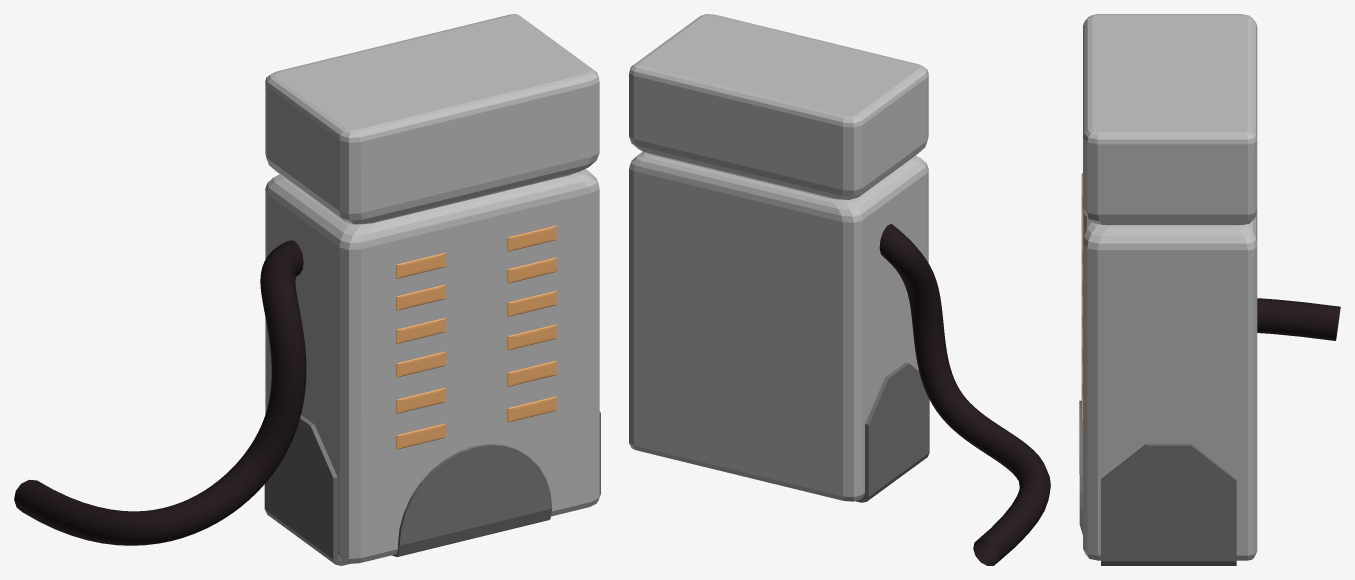
Rendered from OxygenBag.fbx.
3 renders of one model, left to right at view 1: azimuth 30°, elevation 25°; view 2: azimuth 150°, elevation 25°; view 3: azimuth 270°, elevation 25°, orthographic. The views are drawn at different scales.
Visible parts, largest first — view 1: oxygen bag, bag bottom, oxygen-bag-pipe, decoration; view 2: oxygen bag, oxygen-bag-pipe, bag bottom; view 3: oxygen bag, bag bottom, oxygen-bag-pipe, decoration.
Part boxes in pixels (x1,y1,x2,y2): oxygen bag: (265, 14, 599, 563); bag bottom: (264, 411, 600, 565); oxygen-bag-pipe: (14, 240, 306, 545); decoration: (396, 225, 556, 449); oxygen bag: (629, 14, 928, 501); oxygen-bag-pipe: (879, 224, 1050, 565); bag bottom: (855, 362, 929, 502); oxygen bag: (1083, 14, 1257, 560); bag bottom: (1079, 400, 1236, 565); oxygen-bag-pipe: (1257, 298, 1340, 340); decoration: (1081, 172, 1082, 432).
Bounding box in the file's own units: 612 × 547 × 300.
